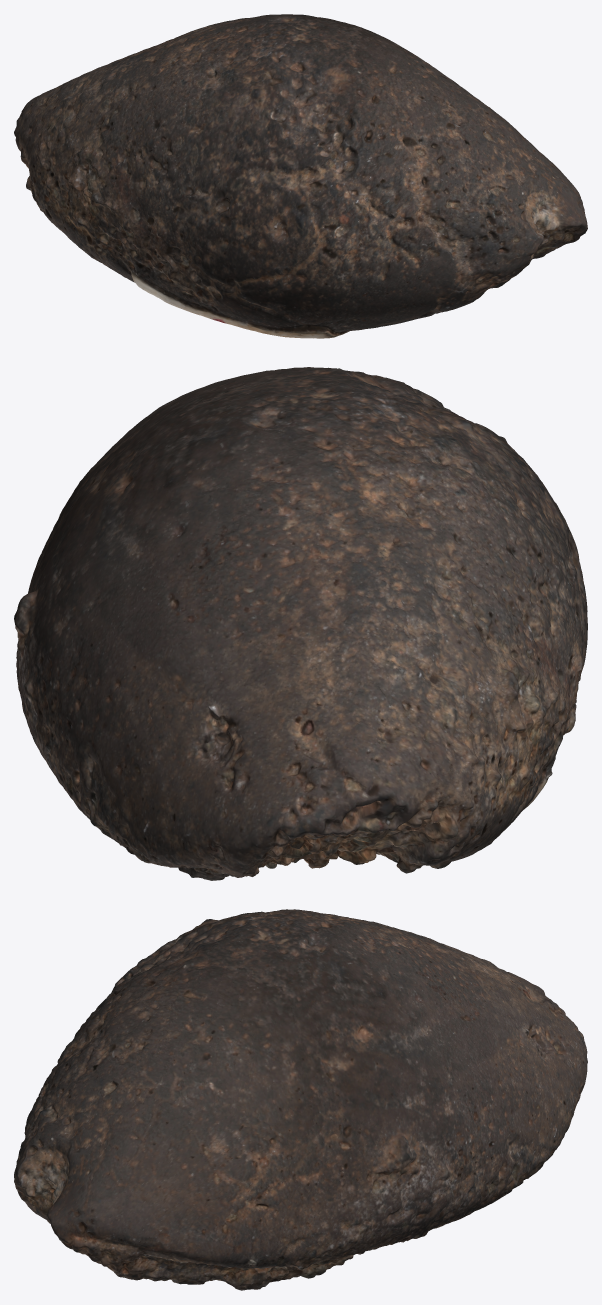
Rendered from EWS0016136.glb.
The picture shows the model from 3 angles, top to bottom: view 1: azimuth 30°, elevation 25°; view 2: azimuth 150°, elevation 25°; view 3: azimuth 270°, elevation 25°; orthographic projection. The views are drawn at different scales.
Visible parts, largest first — view 1: input2; view 2: input2; view 3: input2.
Boxes of the visible parts, <box> form: input2: <box>14,14,587,338</box>; input2: <box>14,367,587,880</box>; input2: <box>14,909,587,1290</box>.
Bounding box in the file's own units: 0.0152 × 0.00967 × 0.017.
Materials: 1 (1 with a texture image).
